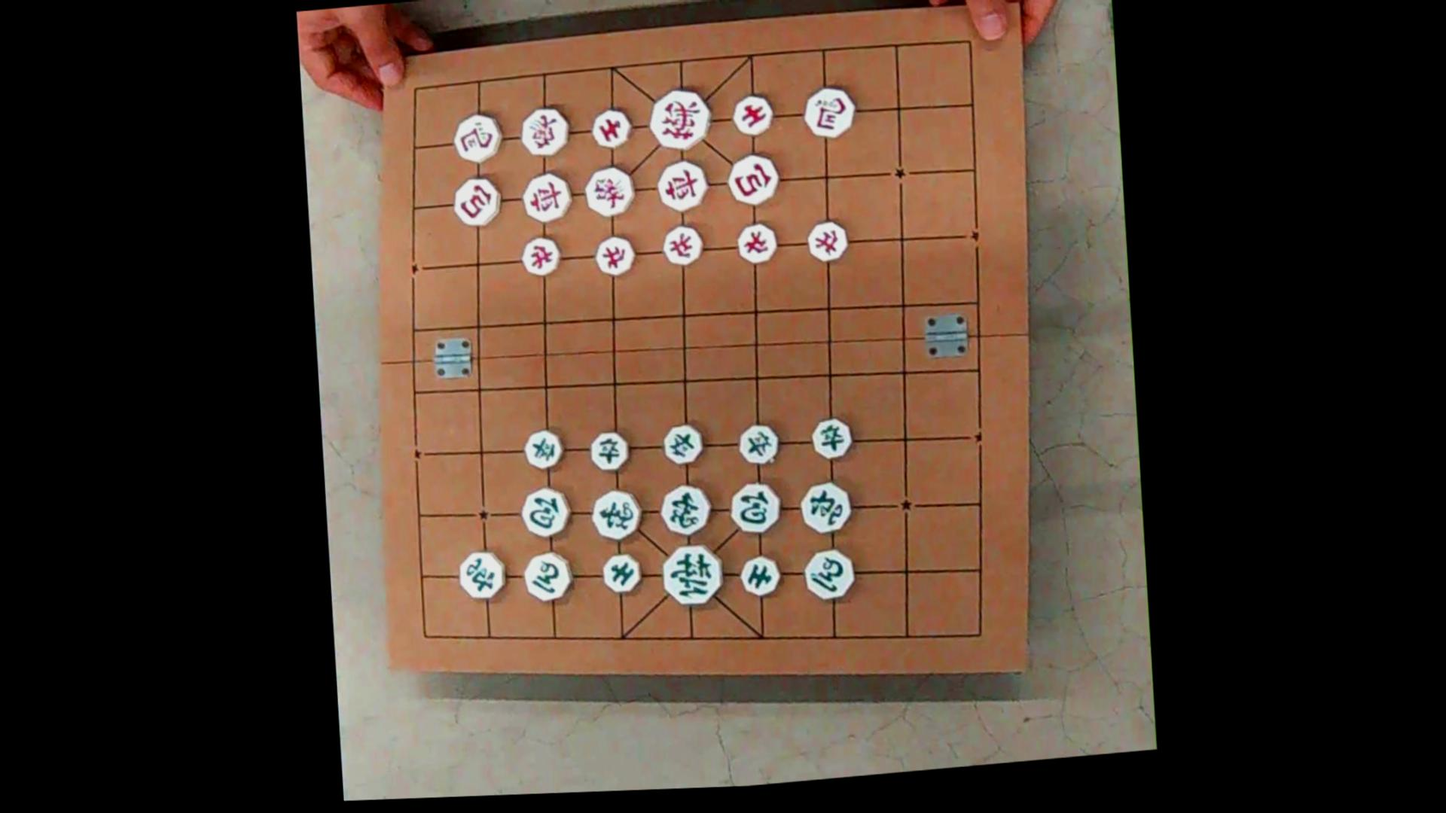cha_green: (800, 480, 852, 532), (459, 548, 506, 598)
cha_red: (656, 157, 708, 210), (521, 170, 572, 221)
jol_green: (810, 416, 853, 458), (737, 422, 779, 464), (662, 422, 703, 463), (523, 427, 563, 469), (589, 429, 629, 470)
jol_red: (660, 223, 703, 266), (806, 218, 847, 261), (735, 221, 776, 263), (594, 234, 635, 275), (520, 235, 560, 275)
ma_green: (804, 547, 855, 600), (523, 550, 572, 601)
ma_red: (804, 84, 856, 137), (453, 111, 502, 162)
po_green: (729, 481, 781, 532), (520, 486, 570, 536)
po_red: (726, 151, 779, 204), (453, 175, 501, 225)
sa_green: (602, 550, 642, 592), (740, 553, 781, 593)
sa_red: (731, 93, 773, 135), (590, 106, 631, 148)
sang_green: (660, 483, 712, 535), (591, 489, 642, 540)
sang_red: (584, 164, 635, 215), (520, 105, 569, 155)
wang_green: (660, 542, 724, 606)
wang_red: (648, 87, 711, 149)
